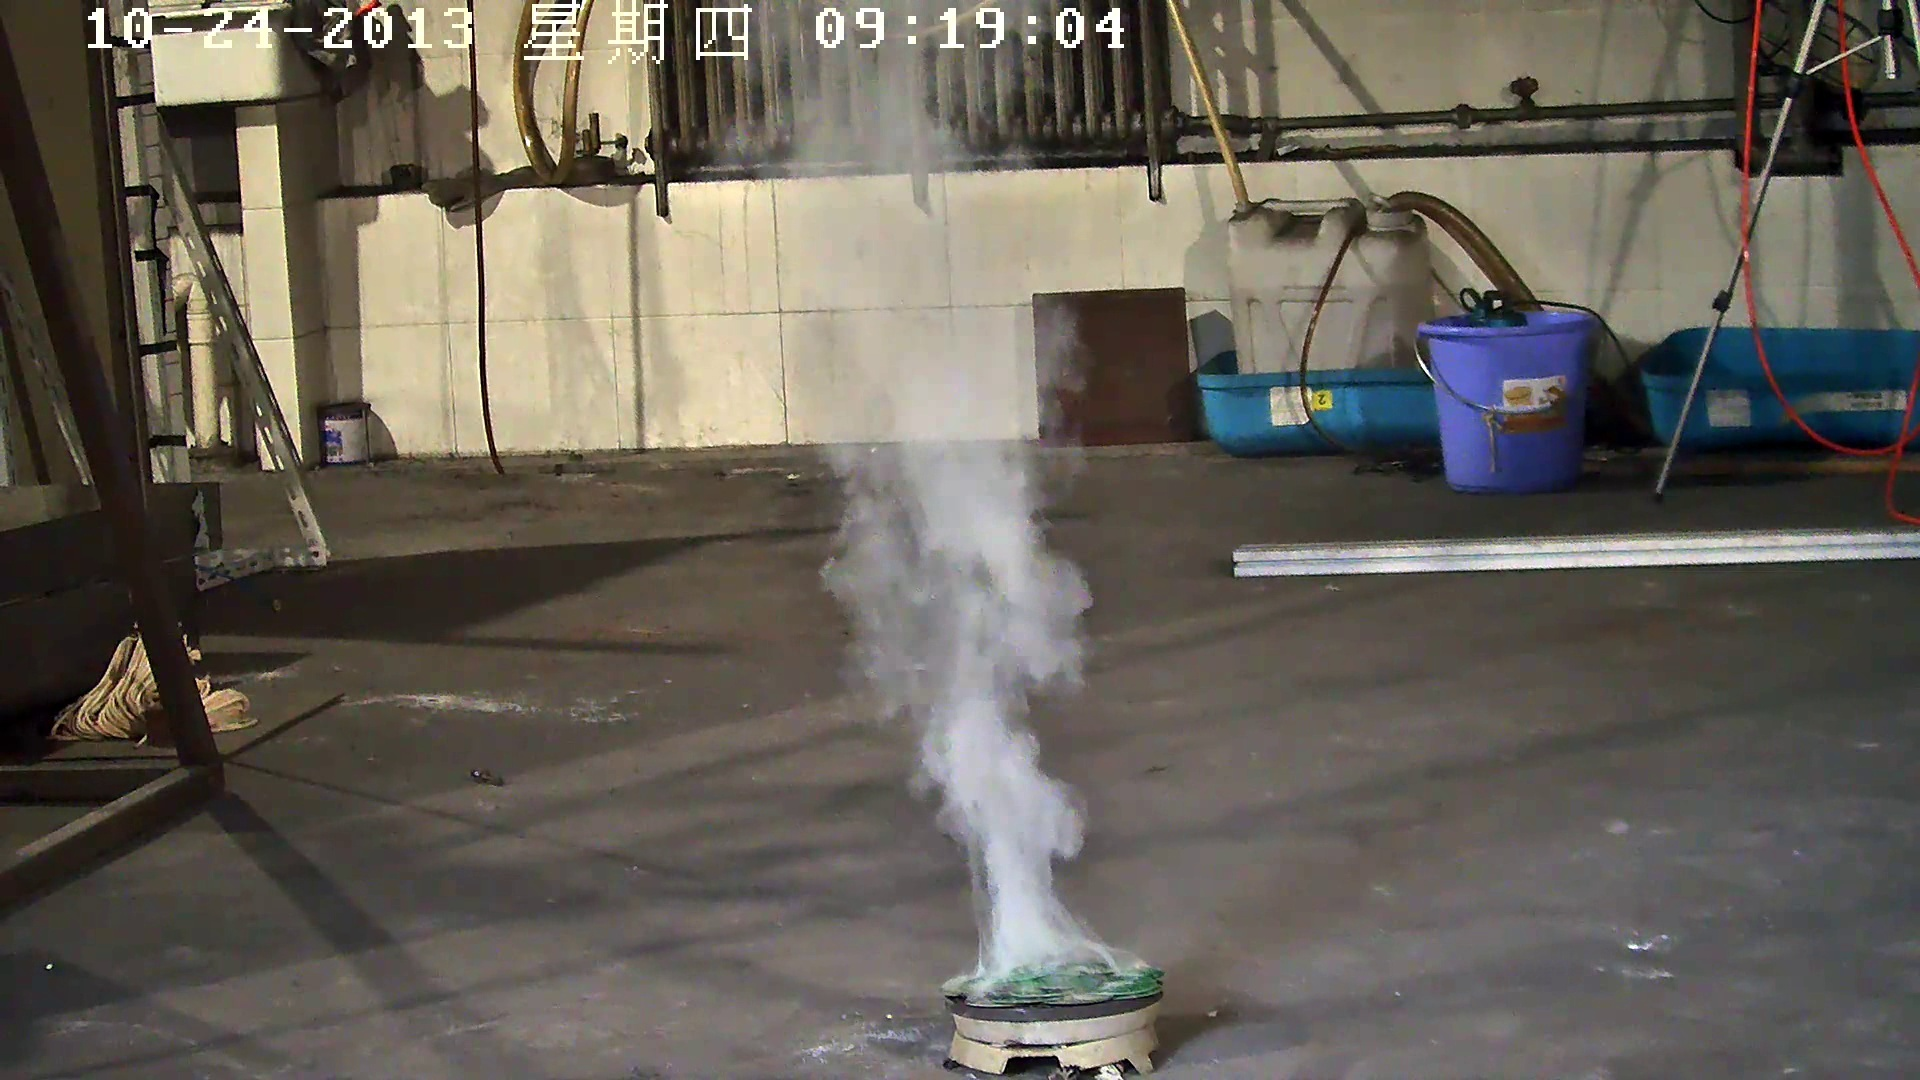smoke: (723, 95, 1164, 1000)
